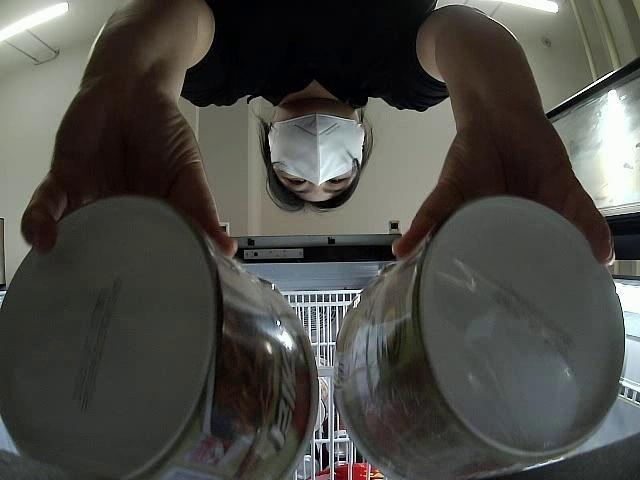03_chapagetti_L: (0, 193, 319, 480), (333, 194, 626, 480)
